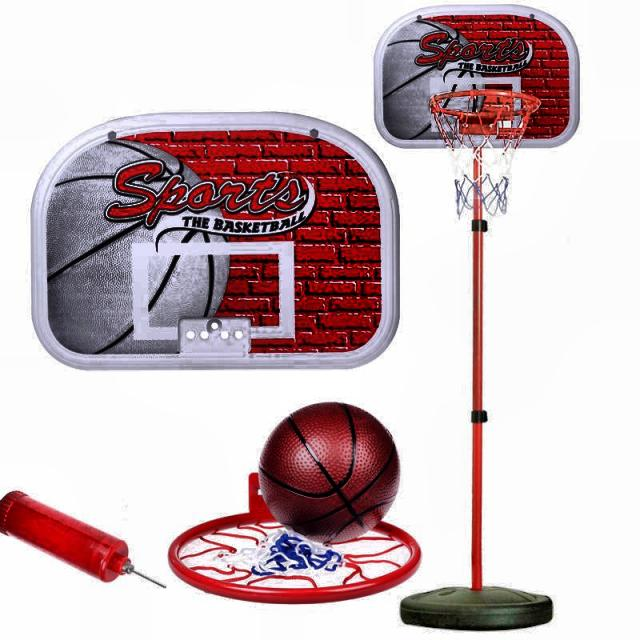board: (260, 400, 402, 544)
rim: (430, 87, 539, 219)
